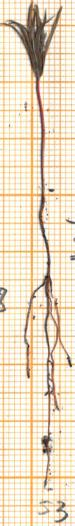flower: (0, 0, 75, 79)
root: (20, 191, 75, 493)
stem: (31, 78, 51, 190)
